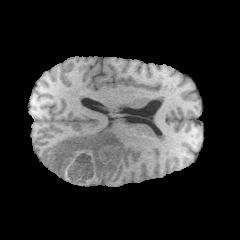glioma: (51, 128, 124, 185)
